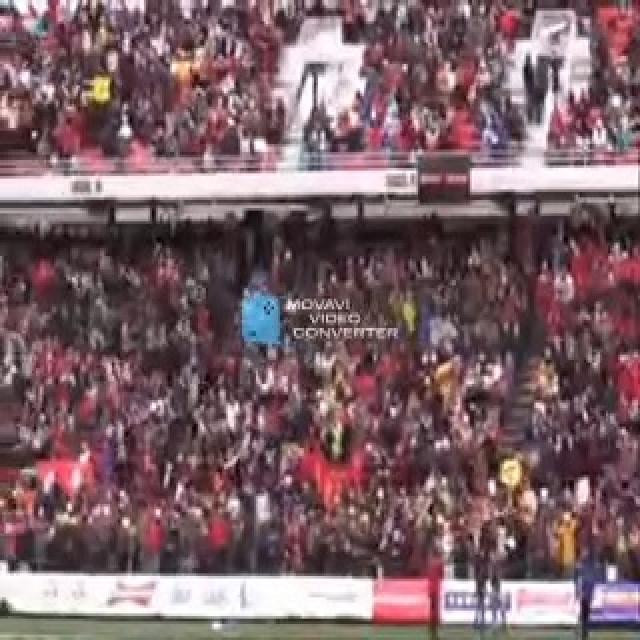non-voilence: (0, 213, 638, 576)
